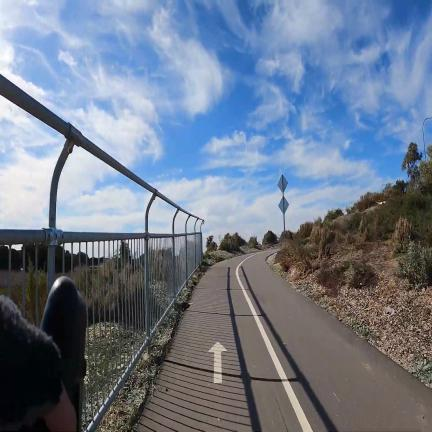Bike_Lane: (138, 251, 432, 432)
